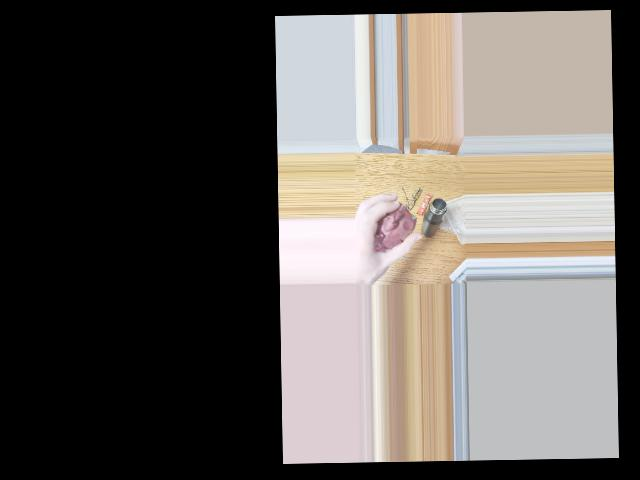onion: (373, 202, 411, 251)
